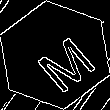M_NW: (19, 21, 91, 89)
